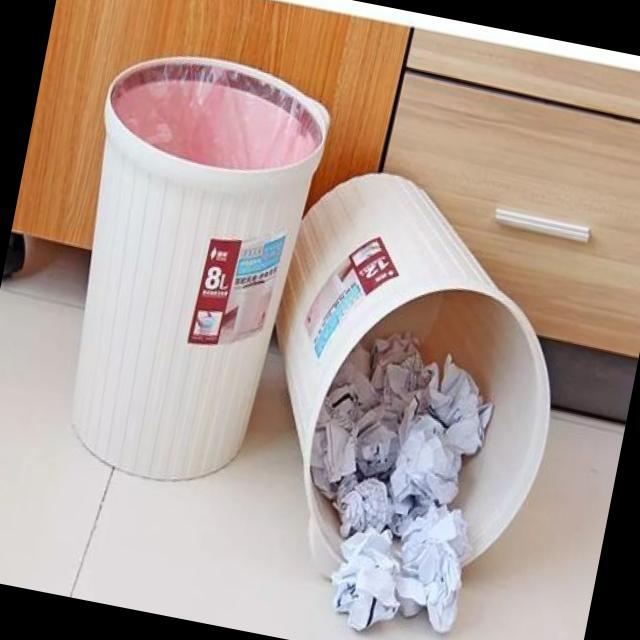crumpled_paper: (388, 496, 482, 638), (410, 349, 510, 462), (321, 520, 414, 640), (387, 398, 473, 512), (304, 418, 367, 503), (347, 398, 408, 480), (332, 470, 398, 540), (364, 328, 428, 399)
dustbin: (234, 159, 596, 616), (32, 34, 342, 503)
